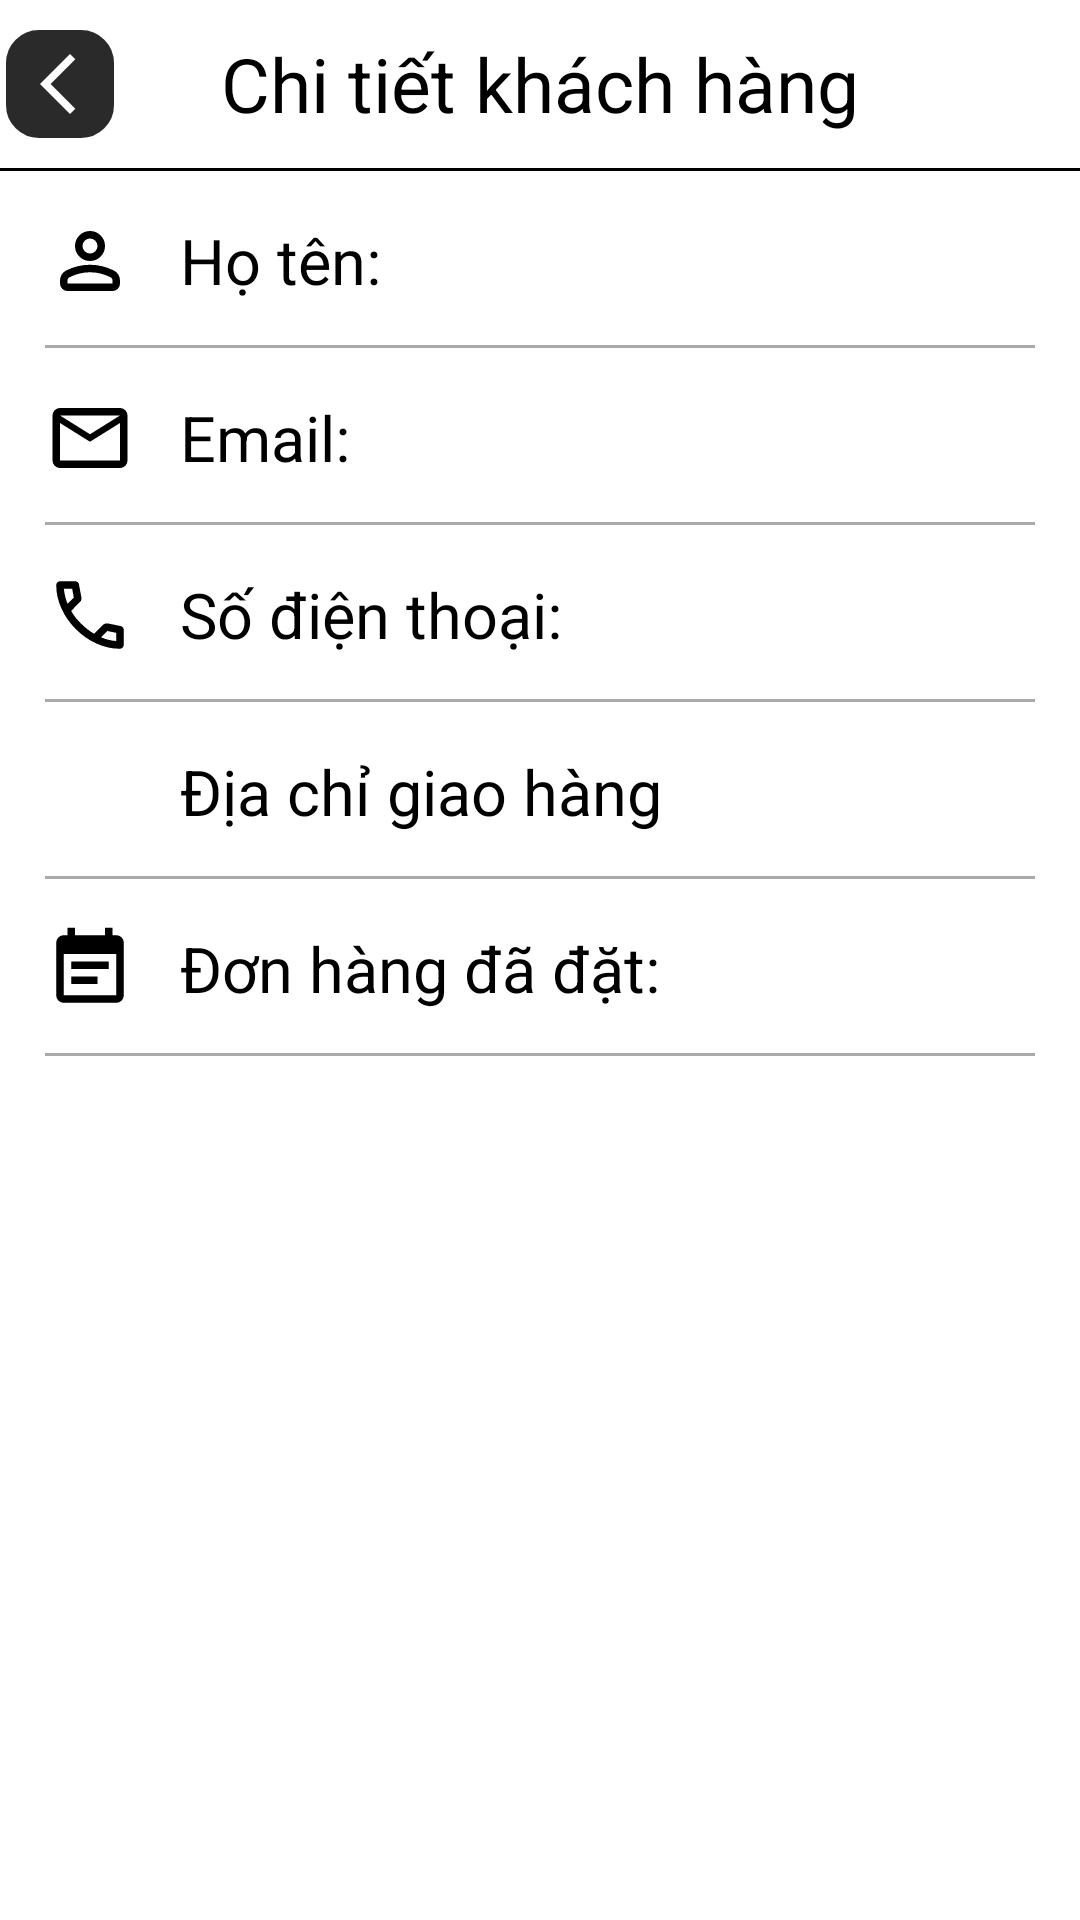

Named icons in this screenshot (1080w x 1920h) and their centers, (x,y):
back: (57,84)
call: (90,615)
note: (90,965)
person: (90,261)
